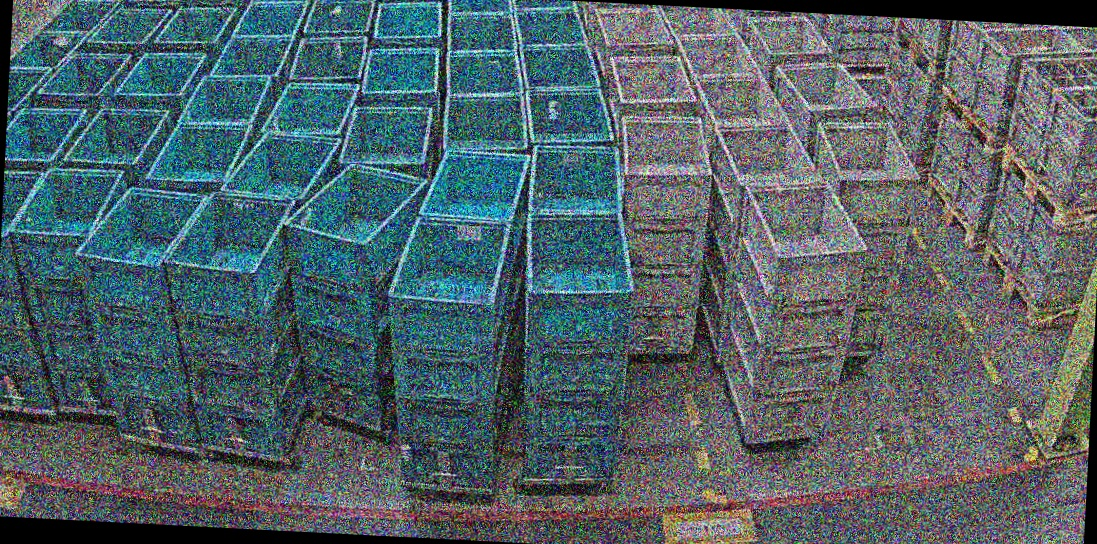4G: (716, 176, 872, 446), (803, 118, 924, 355), (609, 112, 716, 354)
B4: (152, 186, 320, 458), (272, 159, 432, 428), (377, 212, 520, 491), (65, 183, 212, 450), (512, 205, 640, 484), (3, 164, 139, 413)
